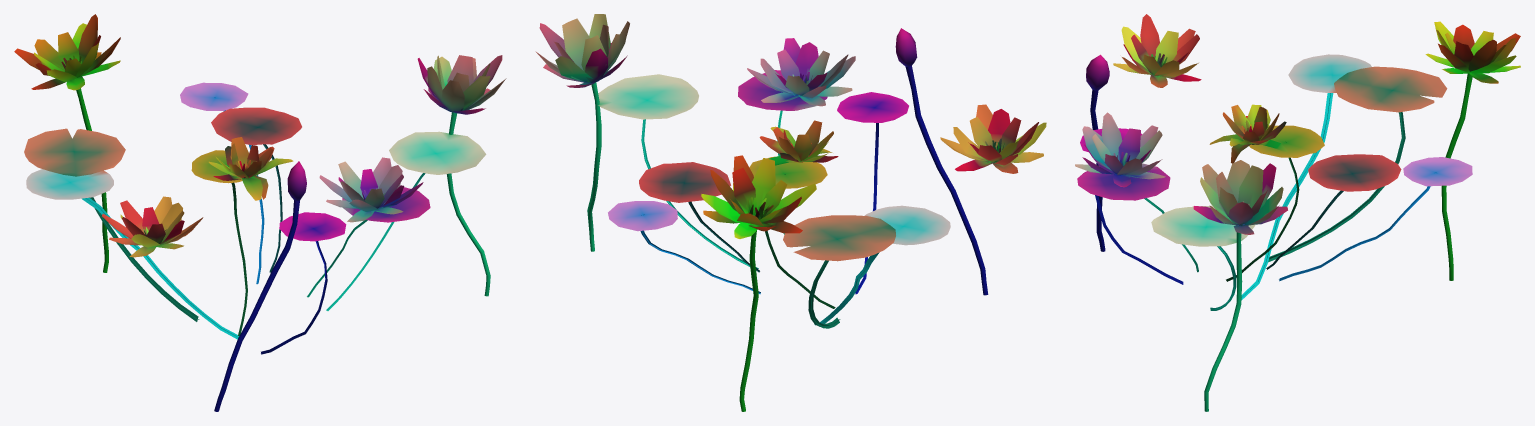
Rendered from Rembrandt_Water_Lily_uc2kajgia_High_uc2kajgia_VarG_LOD0.fbx.
3 renders of one model, left to right at view 1: azimuth 30°, elevation 25°; view 2: azimuth 150°, elevation 25°; view 3: azimuth 270°, elevation 25°, orthographic. The views are drawn at different scales.
Parts seen in each view (by area): view 1: _9efa_VarG_LOD0; view 2: _9efa_VarG_LOD0; view 3: _9efa_VarG_LOD0.
Boxes of the visible parts, bbox=[...] form: _9efa_VarG_LOD0: bbox=[14, 14, 506, 411]; _9efa_VarG_LOD0: bbox=[535, 14, 1046, 411]; _9efa_VarG_LOD0: bbox=[1075, 14, 1520, 411].
Size of the model in its own units: 125 by 67.53 by 110.
